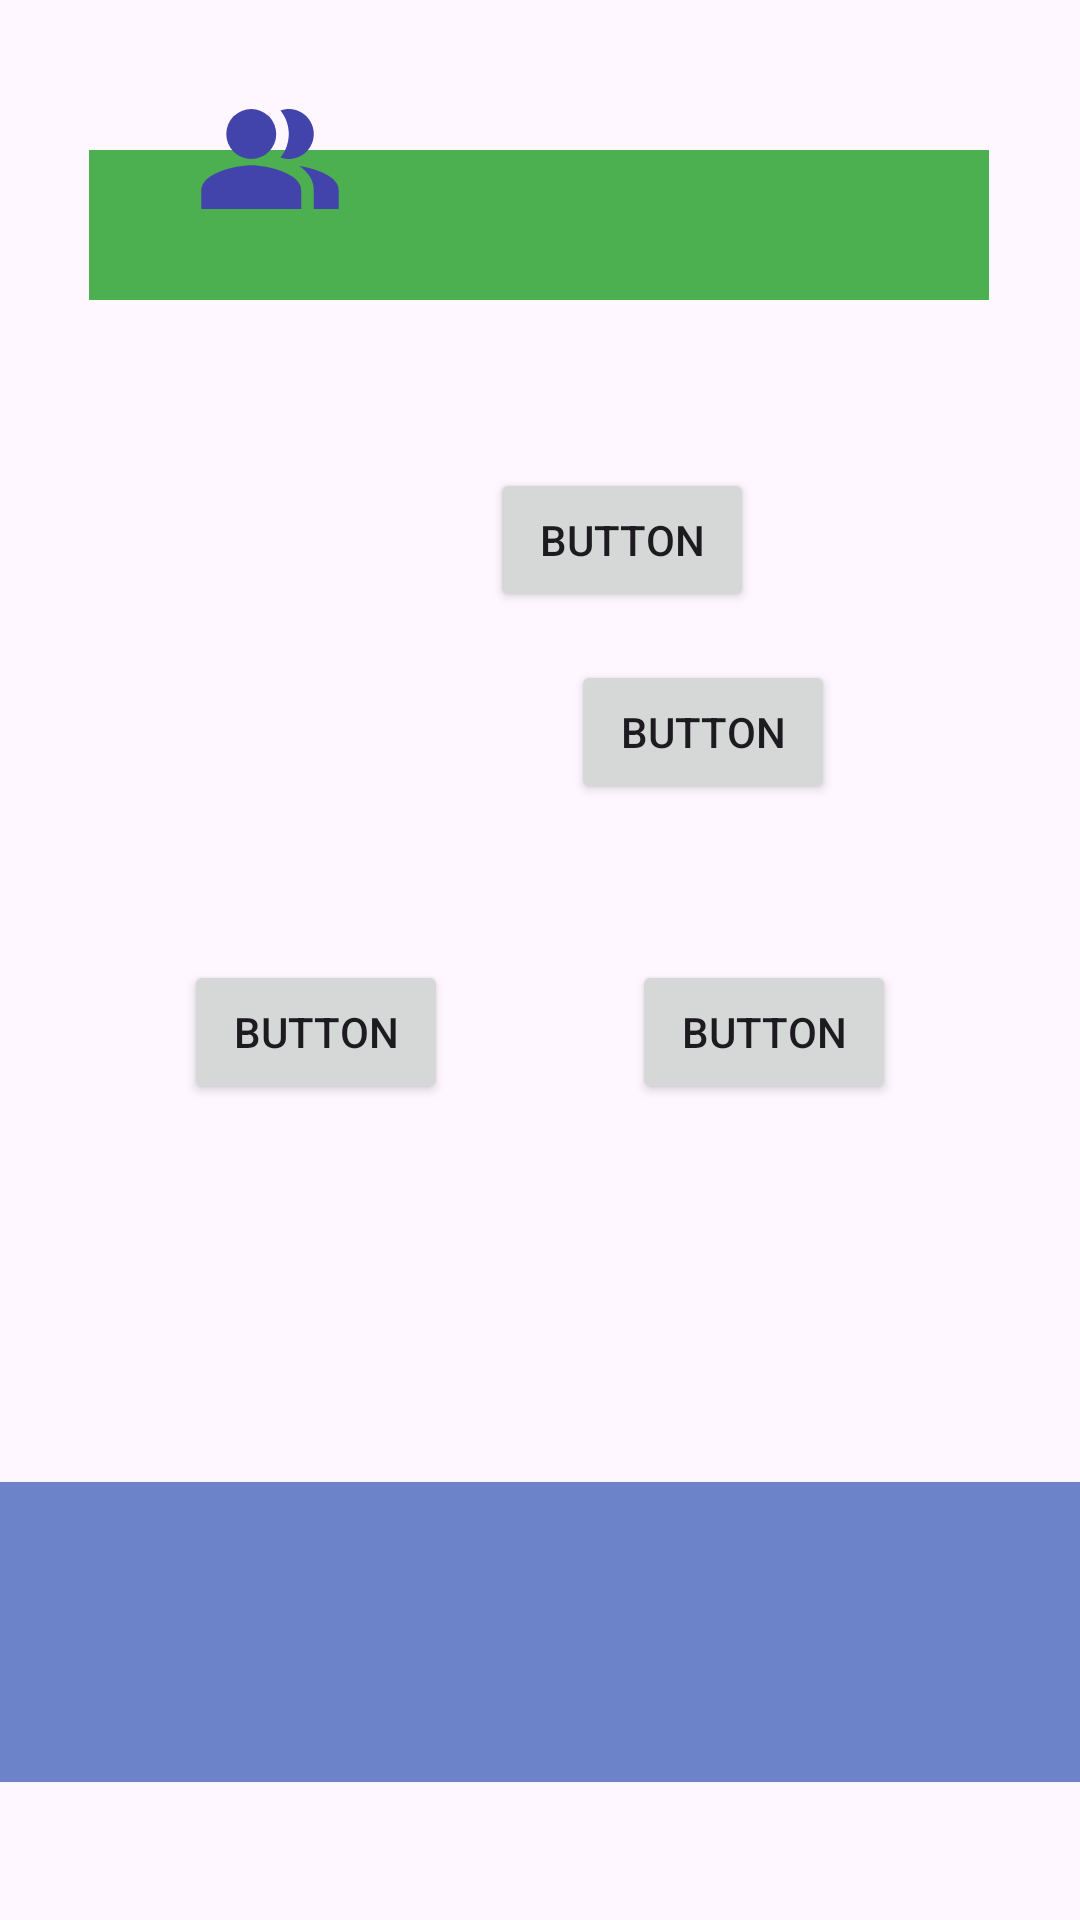

Named icons in this screenshot (1080*1920) and their centers, point (x, y):
user: point (270, 159)
